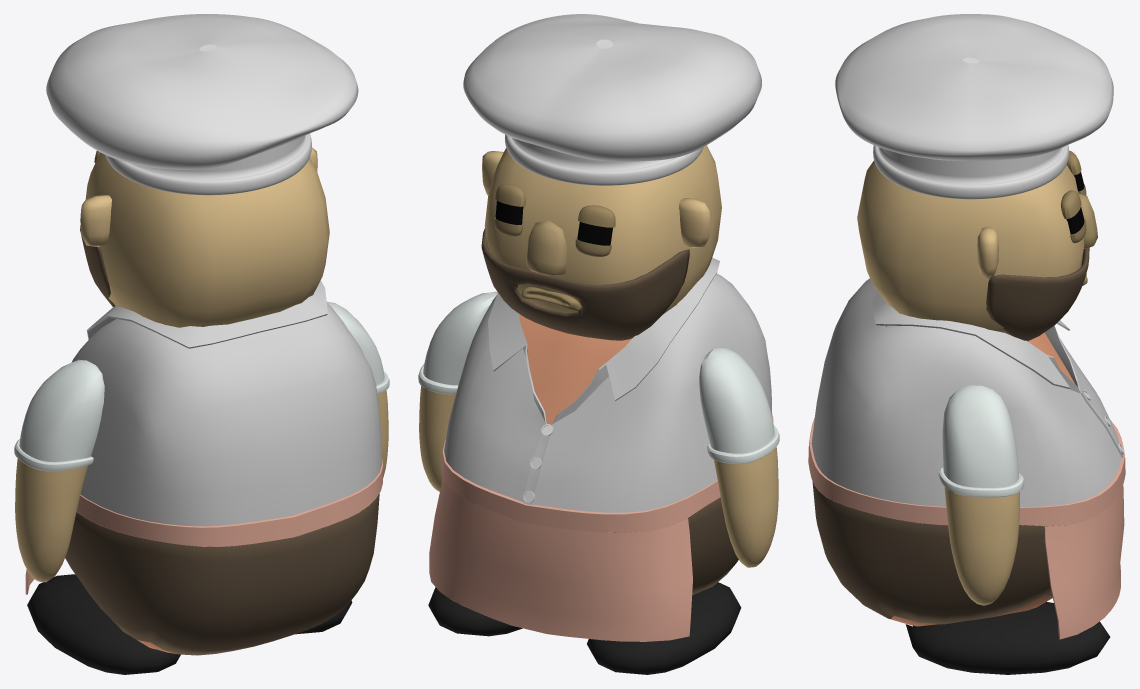
Rendered from CharacterBaker_IntroProj(3).fbx.
3 views of the same model, side by side, from view 1: azimuth 30°, elevation 25°; view 2: azimuth 150°, elevation 25°; view 3: azimuth 270°, elevation 25° (orthographic). The views are drawn at different scales.
Parts seen in each view (by area): view 1: Cube.035, Circle.002, Cube.027, Cube.028, Arms.003, Feet.003, Cube.030, Cube.031, Cube.029; view 2: Cube.035, Circle.002, Cube.030, Arms.003, Cube.028, Cube.029, Feet.003, Cube.026, Cube.027, Cube.033, Cube.032, Cube.031 (+1 smaller); view 3: Cube.035, Circle.002, Cube.028, Cube.027, Arms.003, Cube.030, Feet.003, Cube.029, Cube.033, Cube.026, Cube.031, Cube.032.
Boxes of the visible parts, x1,y1,x2,y2 form: Cube.035: [71, 280, 381, 526]; Circle.002: [46, 14, 358, 195]; Cube.027: [65, 493, 379, 655]; Cube.028: [85, 152, 329, 327]; Arms.003: [14, 301, 389, 582]; Feet.003: [27, 574, 352, 674]; Cube.030: [25, 458, 383, 594]; Cube.031: [80, 147, 317, 246]; Cube.029: [80, 225, 115, 306]; Cube.035: [444, 257, 772, 512]; Circle.002: [463, 14, 761, 185]; Cube.030: [429, 413, 773, 641]; Arms.003: [418, 291, 779, 567]; Cube.028: [484, 145, 721, 313]; Cube.029: [481, 228, 689, 340]; Feet.003: [428, 582, 741, 674]; Cube.026: [519, 314, 632, 424]; Cube.027: [688, 497, 738, 594]; Cube.033: [494, 184, 615, 256]; Cube.032: [526, 220, 566, 276]; Cube.031: [482, 151, 710, 247]; Cube.035: [811, 278, 1123, 507]; Circle.002: [835, 14, 1113, 199]; Cube.028: [857, 160, 1084, 332]; Cube.027: [812, 481, 1052, 624]; Arms.003: [938, 385, 1024, 605]; Cube.030: [808, 417, 1125, 639]; Feet.003: [905, 601, 1110, 674]; Cube.029: [986, 247, 1089, 341]; Cube.033: [1060, 150, 1086, 243]; Cube.026: [890, 332, 1074, 626]; Cube.031: [977, 226, 998, 278]; Cube.032: [1078, 193, 1097, 248].
Size of the model in its own units: 193 by 308 by 156.
